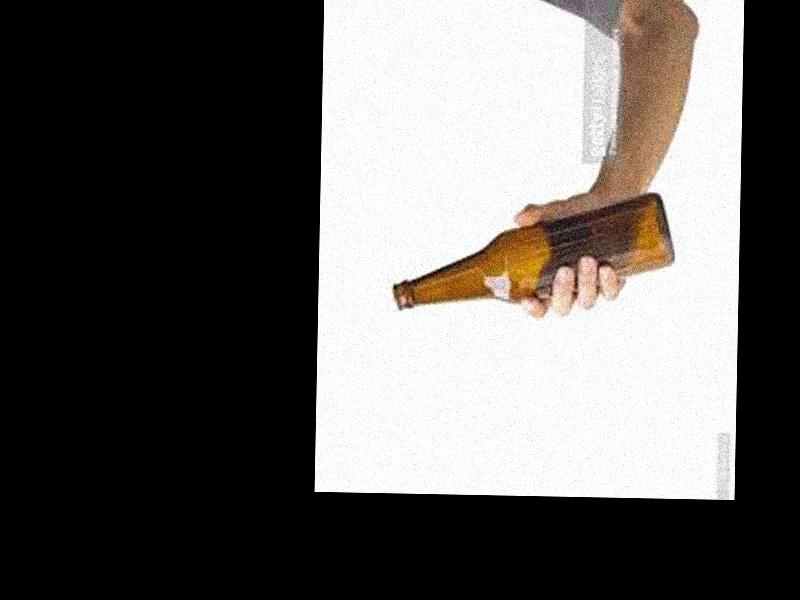Beer: (393, 185, 674, 315)
